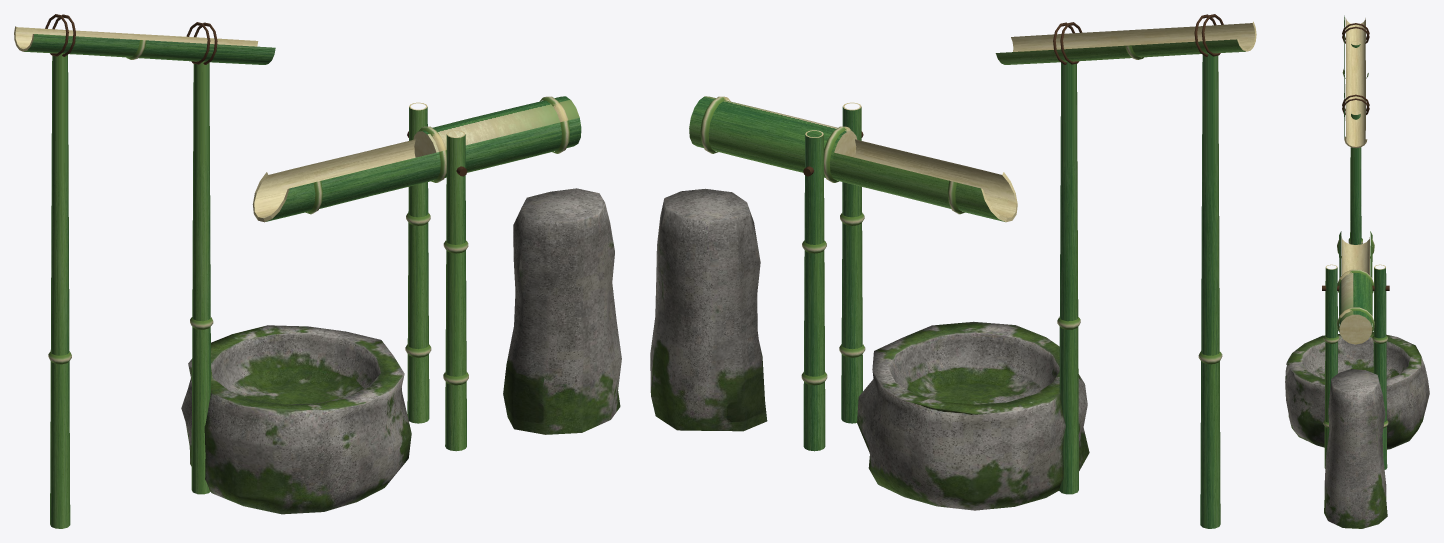
File: shishiodoshi.glb
The picture shows the model from 3 angles, left to right: view 1: azimuth 30°, elevation 25°; view 2: azimuth 150°, elevation 25°; view 3: azimuth 270°, elevation 25°; orthographic projection. The views are drawn at different scales.
Visible parts, largest first — view 1: shishi_basin, shishi_stone, shishi_flume, shishi_tube, shishi_posts; view 2: shishi_basin, shishi_stone, shishi_flume, shishi_tube, shishi_posts; view 3: shishi_stone, shishi_basin, shishi_flume, shishi_posts, shishi_tube.
Boxes of the visible parts, <box> form: shishi_basin: <box>181,325,411,514</box>; shishi_stone: <box>503,188,621,434</box>; shishi_flume: <box>14,14,275,528</box>; shishi_tube: <box>252,96,581,222</box>; shishi_posts: <box>405,102,468,451</box>; shishi_basin: <box>857,321,1089,510</box>; shishi_stone: <box>650,188,767,431</box>; shishi_flume: <box>995,14,1256,528</box>; shishi_tube: <box>689,96,1017,222</box>; shishi_posts: <box>801,102,865,451</box>; shishi_stone: <box>1324,369,1387,528</box>; shishi_basin: <box>1285,332,1429,449</box>; shishi_flume: <box>1342,15,1369,244</box>; shishi_posts: <box>1322,264,1389,469</box>; shishi_tube: <box>1337,231,1374,344</box>.
Size of the model in its own units: 1.9 by 1.58 by 0.6206.
3 materials, 2 textured.
